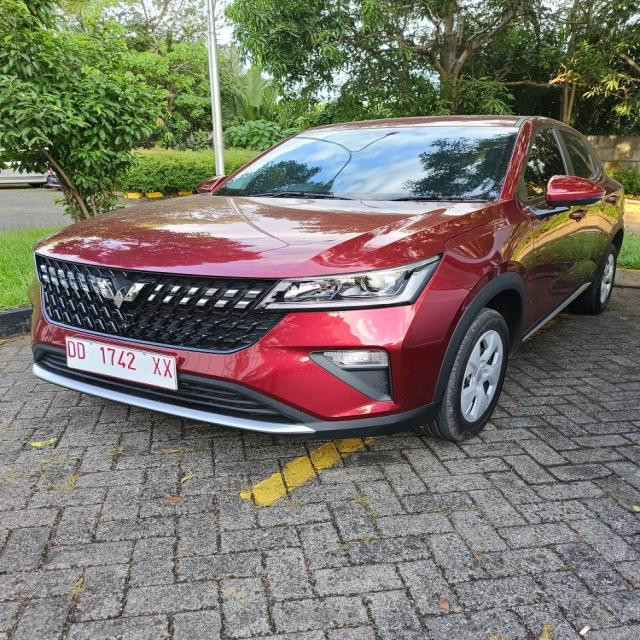plates: (62, 330, 183, 400)
